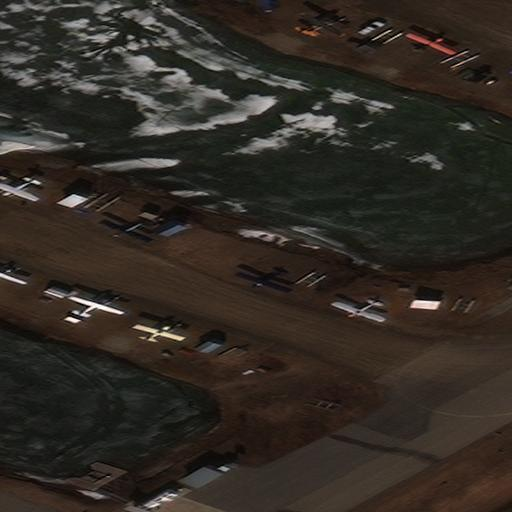Small Civil Transport: (235, 270, 287, 292), (329, 300, 381, 322), (71, 295, 125, 316), (98, 222, 148, 243), (409, 32, 457, 52), (135, 324, 186, 341), (0, 178, 36, 202), (302, 14, 345, 34), (240, 0, 282, 12), (0, 267, 28, 283)
